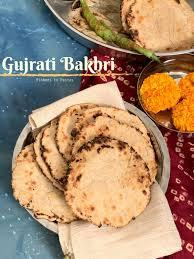bhakri: (10, 105, 155, 228)
